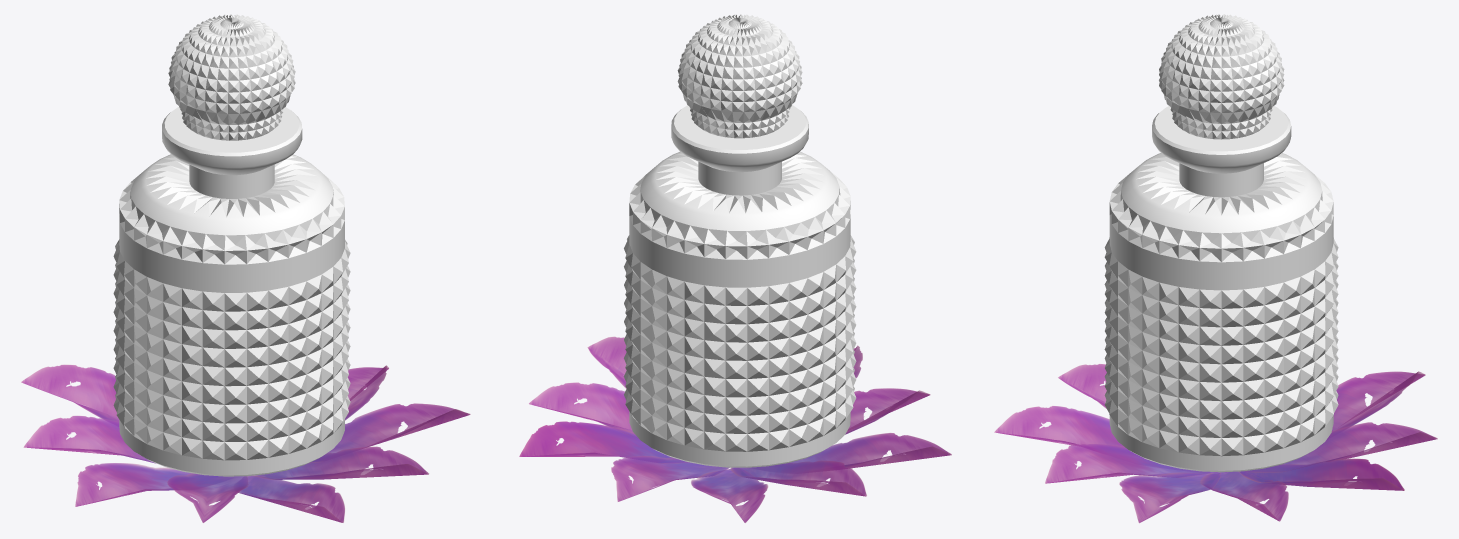
Rendered from perfume_bottle.glb.
3 views of the same model, side by side, from view 1: azimuth 30°, elevation 25°; view 2: azimuth 150°, elevation 25°; view 3: azimuth 270°, elevation 25° (orthographic).
Parts seen in each view (by area): view 1: Cylinder.001, Sphere.001, pPlane10, pPlane9, pPlane6, pPlane5, pPlane4, pPlane8, pPlane7, pPlane11; view 2: Cylinder.001, Sphere.001, pPlane1, pPlane6, pPlane11, pPlane5, pPlane3, pPlane4, pPlane7, pPlane2, pPlane10; view 3: Cylinder.001, Sphere.001, pPlane9, pPlane1, pPlane8, pPlane3, pPlane4, pPlane10, pPlane11, pPlane7, pPlane2.
Part boxes in pixels (bbox=[...]): Cylinder.001: bbox=[113, 107, 350, 476]; Sphere.001: bbox=[168, 14, 295, 140]; pPlane10: bbox=[309, 403, 470, 463]; pPlane9: bbox=[253, 446, 428, 479]; pPlane6: bbox=[75, 463, 197, 506]; pPlane5: bbox=[23, 415, 155, 463]; pPlane4: bbox=[21, 364, 119, 423]; pPlane8: bbox=[238, 475, 344, 522]; pPlane7: bbox=[167, 473, 248, 522]; pPlane11: bbox=[345, 365, 388, 420]; Cylinder.001: bbox=[624, 105, 856, 467]; Sphere.001: bbox=[677, 14, 802, 138]; pPlane1: bbox=[519, 421, 689, 463]; pPlane6: bbox=[788, 433, 951, 469]; pPlane11: bbox=[529, 382, 639, 439]; pPlane5: bbox=[730, 460, 866, 496]; pPlane3: bbox=[611, 456, 729, 501]; pPlane4: bbox=[691, 468, 767, 522]; pPlane7: bbox=[845, 388, 930, 434]; pPlane2: bbox=[520, 422, 687, 462]; pPlane10: bbox=[587, 336, 626, 388]; Cylinder.001: bbox=[1104, 106, 1338, 472]; Sphere.001: bbox=[1159, 14, 1284, 139]; pPlane9: bbox=[1045, 444, 1217, 483]; pPlane1: bbox=[1239, 458, 1404, 490]; pPlane8: bbox=[994, 406, 1127, 449]; pPlane3: bbox=[1245, 422, 1437, 472]; pPlane4: bbox=[1332, 371, 1425, 432]; pPlane10: bbox=[1119, 472, 1220, 522]; pPlane11: bbox=[1200, 471, 1288, 521]; pPlane7: bbox=[1058, 364, 1106, 408]; pPlane2: bbox=[1240, 459, 1404, 490].
Size of the model in its own units: 1.51 by 1.67 by 1.52.
3 materials, 2 textured.
